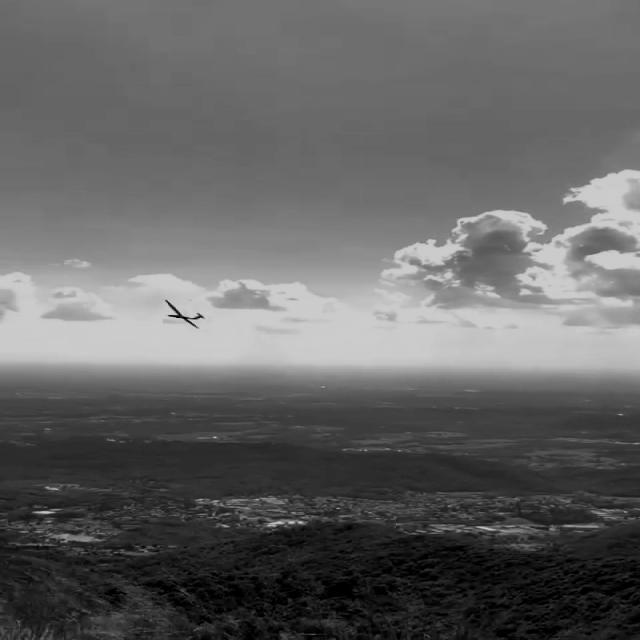iha: (162, 298, 208, 330)
